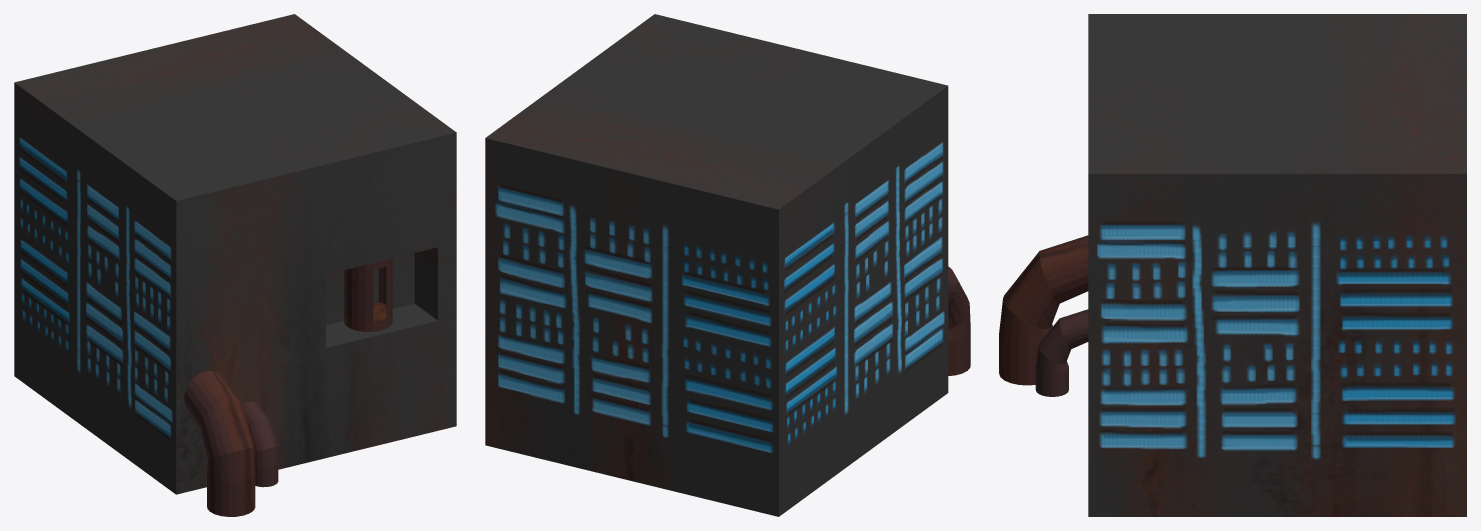
The model's file is ServerNormal_3D.fbx.
3 views of the same model, side by side, from view 1: azimuth 30°, elevation 25°; view 2: azimuth 150°, elevation 25°; view 3: azimuth 270°, elevation 25° (orthographic). The views are drawn at different scales.
Visible parts, largest first — view 1: Cylinder.001; view 2: Cylinder.001; view 3: Cylinder.001.
Boxes of the visible parts, x1=… form: Cylinder.001: x1=14, y1=14, x2=456, y2=516; Cylinder.001: x1=485, y1=14, x2=970, y2=516; Cylinder.001: x1=999, y1=14, x2=1466, y2=516.
Size of the model in its own units: 400 by 400 by 494.
